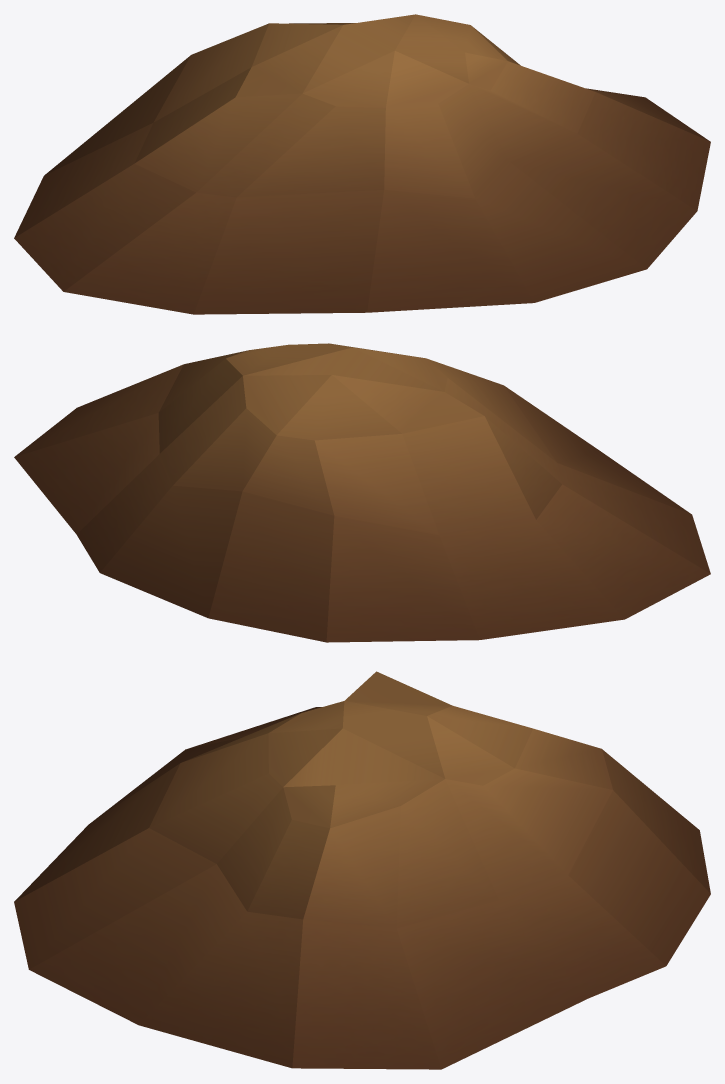
File: SoilPile_02.fbx
3 renders of one model, top to bottom at view 1: azimuth 30°, elevation 25°; view 2: azimuth 150°, elevation 25°; view 3: azimuth 270°, elevation 25°, orthographic. The views are drawn at different scales.
Parts seen in each view (by area): view 1: Cone.001; view 2: Cone.001; view 3: Cone.001.
Part boxes in pixels (left/top/right/bottom): Cone.001: left=14, top=14, right=710, bottom=314; Cone.001: left=14, top=343, right=710, bottom=642; Cone.001: left=14, top=671, right=710, bottom=1069.
Size of the model in its own units: 367 by 103 by 452.
